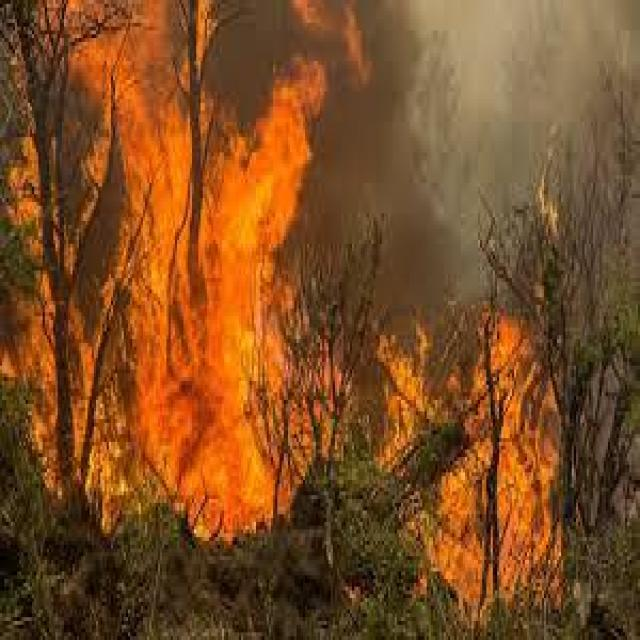fire: (63, 21, 327, 536), (395, 316, 593, 640)
smoke: (328, 77, 516, 312)
